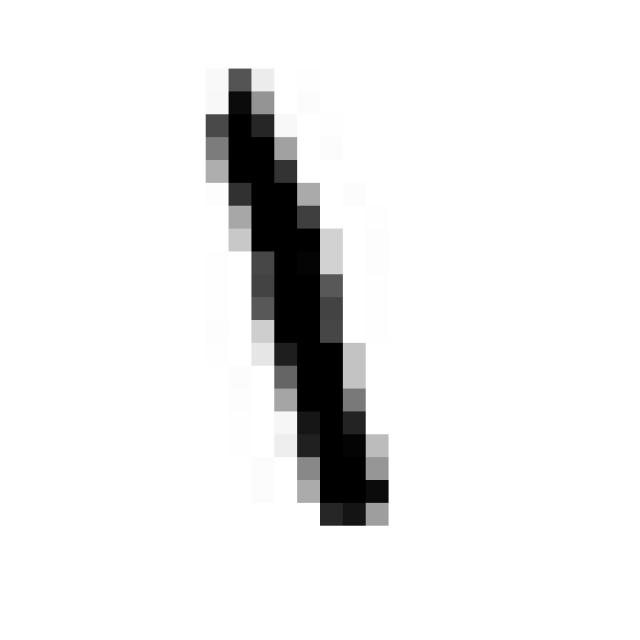1 -one-: (176, 50, 404, 548)
